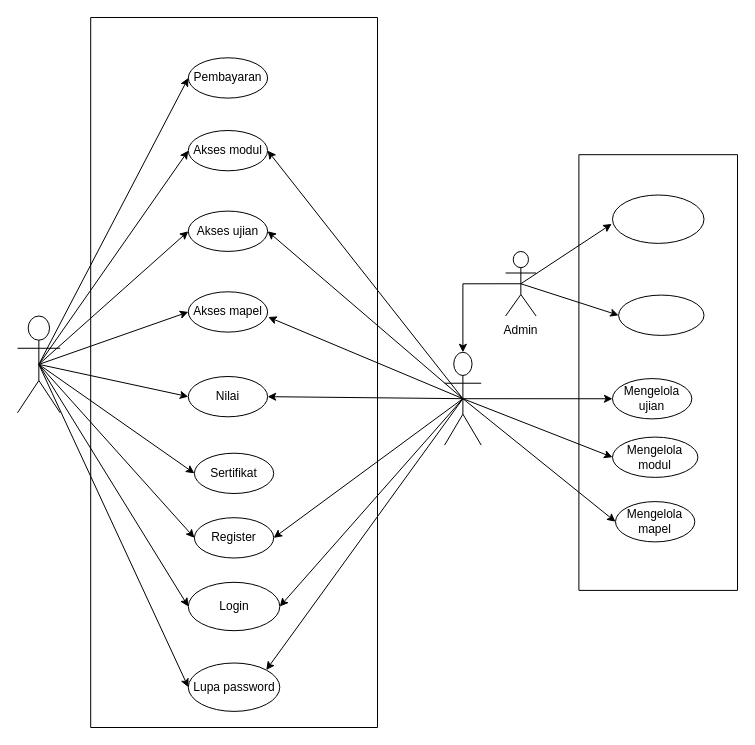
Image size: 755x745. Some labels were removed from this diagram. The shapes that lost their labels are listed below. From the top down, each one's centre as x and y in pixels, then its label:
the point at 658,218: Mengelola akun
the point at 661,314: Mengelola pembayaran
the point at 38,364: Pelajar
the point at 462,398: Pemateri
